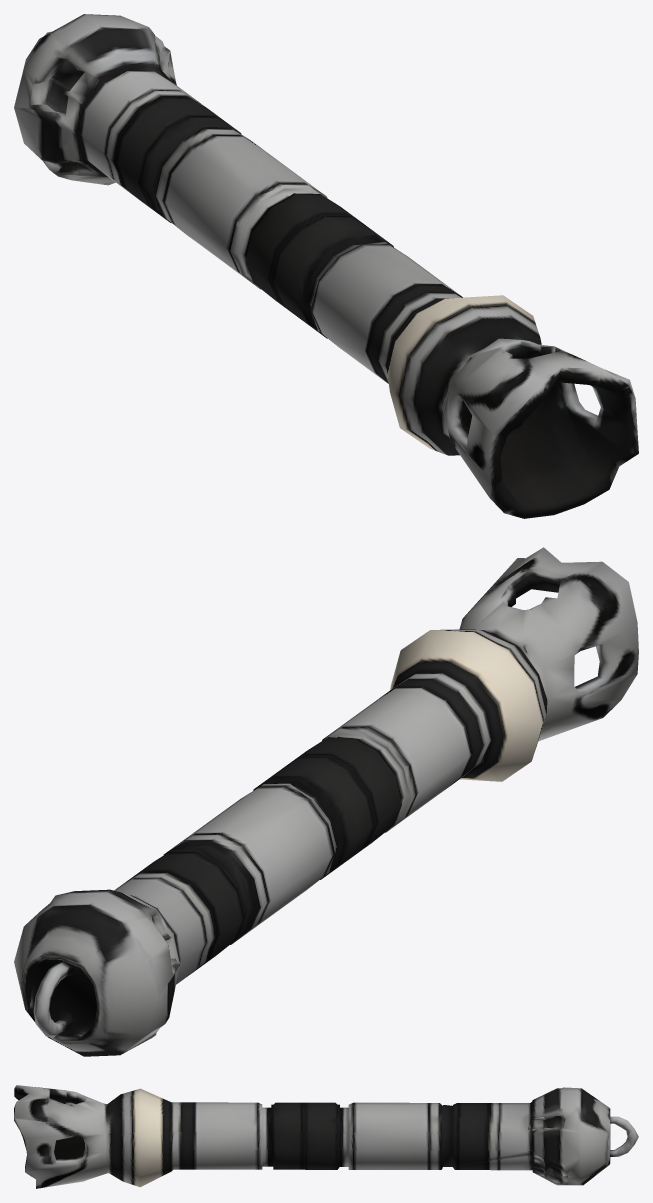
File: saber_jedi.glb
3 views of the same model, one above another, from view 1: azimuth 30°, elevation 25°; view 2: azimuth 150°, elevation 25°; view 3: azimuth 270°, elevation 25° (orthographic). The views are drawn at different scales.
Size of the model in its own units: 0.0903 by 0.0879 by 0.5509.
1 material, 1 textured.
